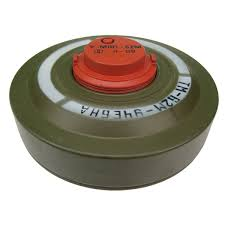car: (3, 22, 224, 197)
